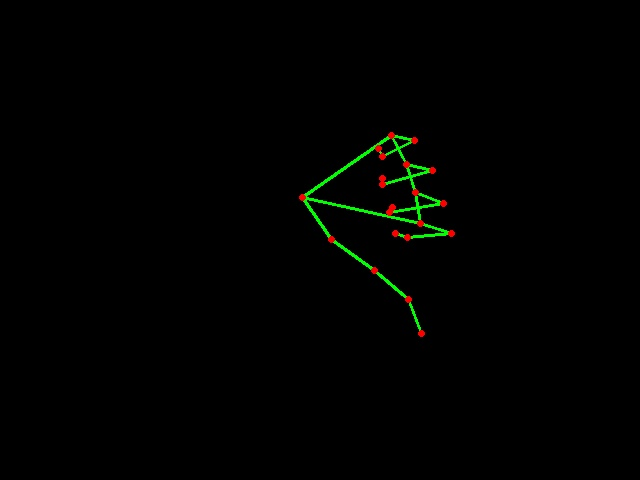slow: (294, 123, 466, 342)
